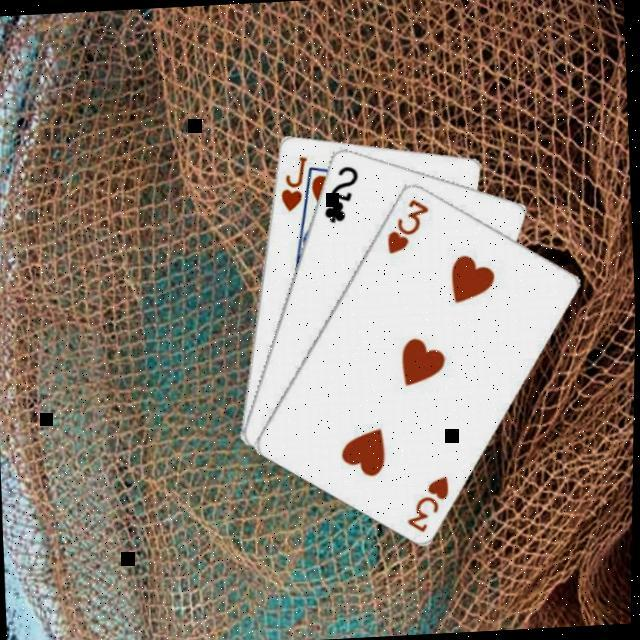2C: (320, 164, 364, 228)
3H: (406, 474, 458, 537), (384, 196, 436, 258)
JH: (278, 154, 315, 217)
